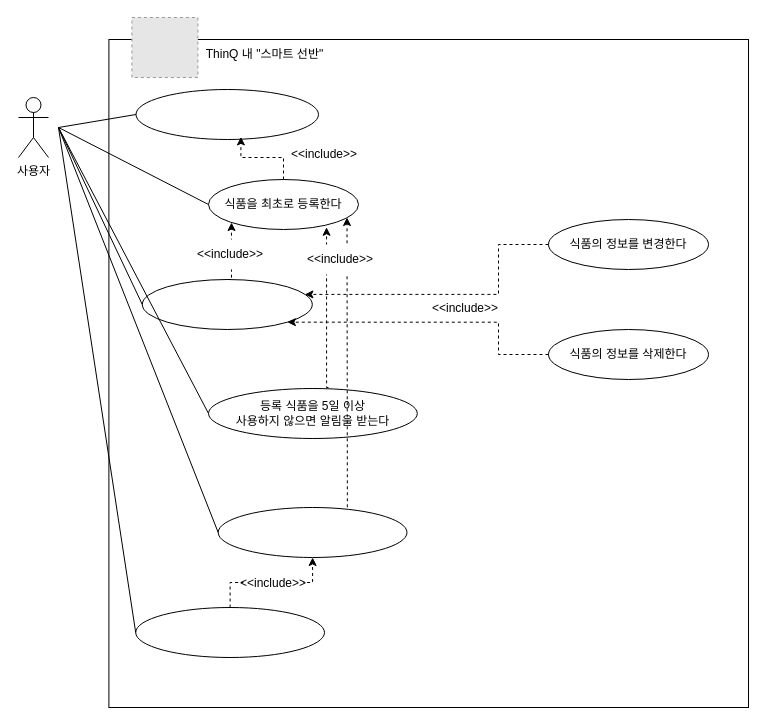
Image size: 766x725. Some labels were removed from this diagram. Grey dashed boxes stand in for pictures. Here are the shapes that lost their labels. From the top down, the centre of each, then its label:
(x=226, y=114): 스마트 선반을 등록한다
(x=226, y=304): 등록된 식품을 사용한다
(x=312, y=532): 식품의 리스트를 조회한다
(x=229, y=632): 식품의 상세 정보를 조회한다
